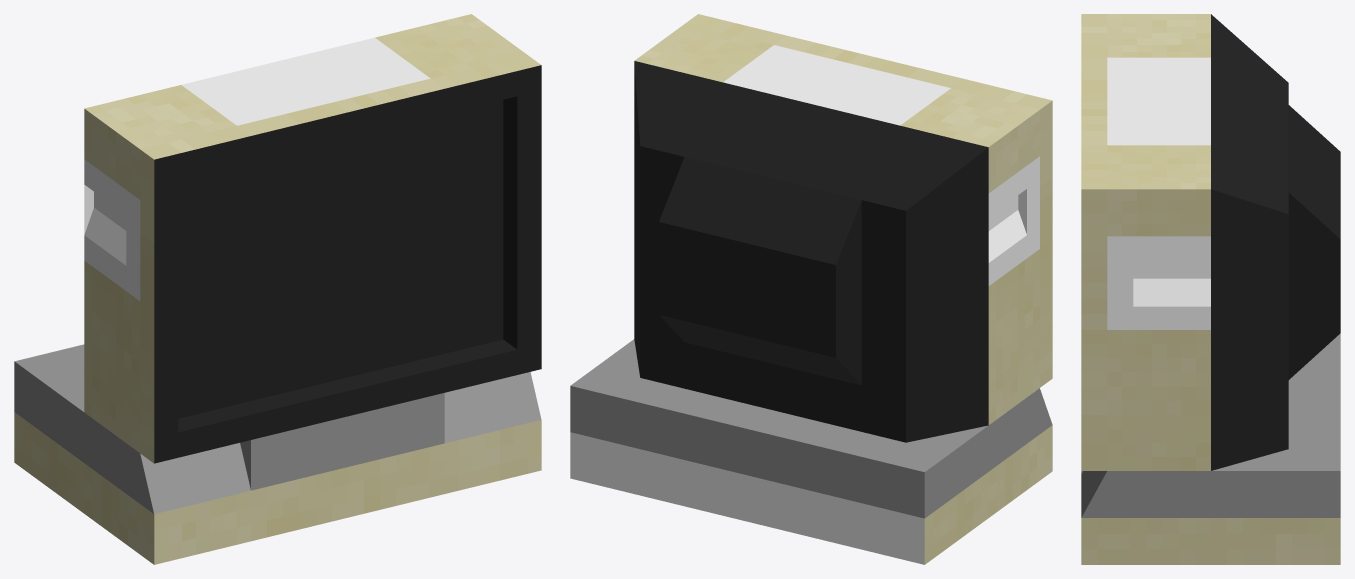
Rendered from Computer.glb.
3 views of the same model, side by side, from view 1: azimuth 30°, elevation 25°; view 2: azimuth 150°, elevation 25°; view 3: azimuth 270°, elevation 25° (orthographic). The views are drawn at different scales.
Parts seen in each view (by area): view 1: Cube; view 2: Cube; view 3: Cube.
Part boxes in pixels (<box>): Cube: <box>14,14,541,564</box>; Cube: <box>570,14,1052,564</box>; Cube: <box>1081,14,1340,564</box>.
Bounding box in the file's own units: 0.8 × 0.8 × 0.5.
4 materials, 1 textured.
